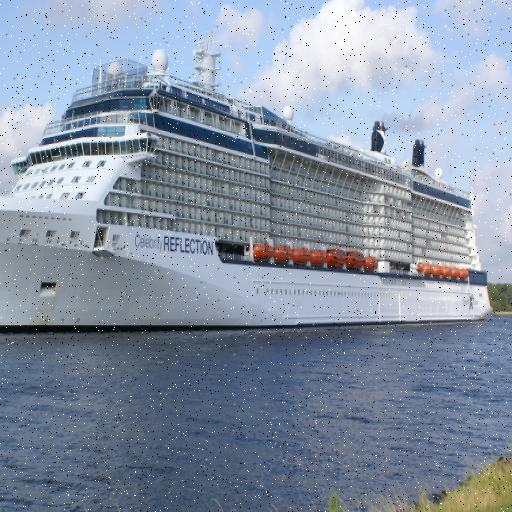cruises: (1, 23, 500, 340)
